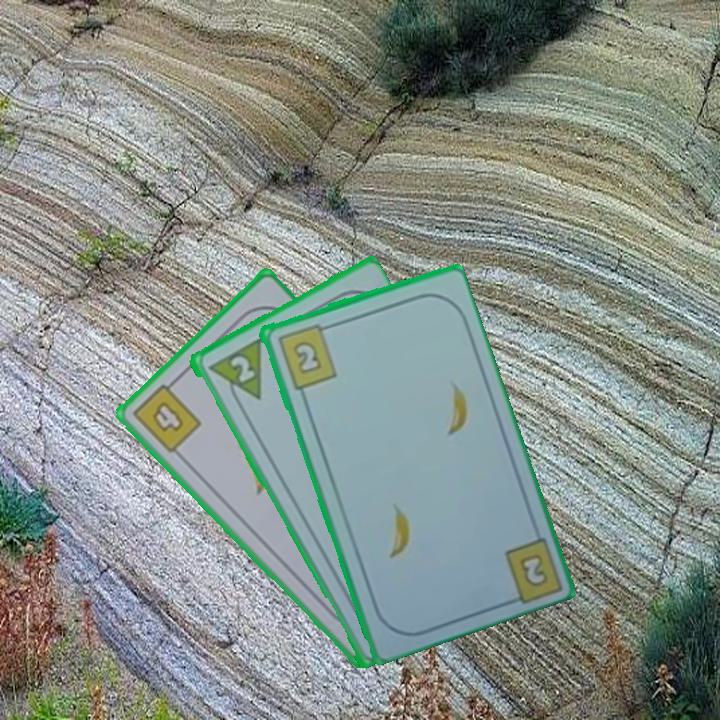2b: (273, 320, 339, 392), (515, 549, 551, 590)
2p: (203, 335, 265, 412)
4b: (128, 374, 204, 456)
